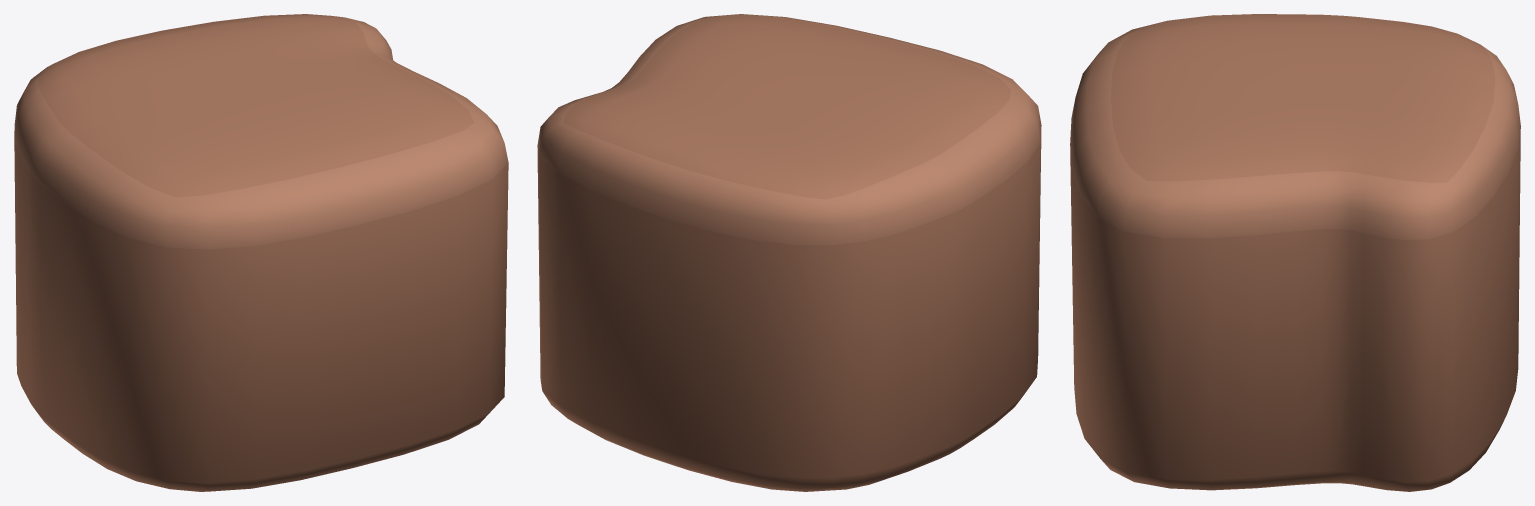
The model's file is big_stone_2_brown.fbx.
3 views of the same model, side by side, from view 1: azimuth 30°, elevation 25°; view 2: azimuth 150°, elevation 25°; view 3: azimuth 270°, elevation 25° (orthographic). The views are drawn at different scales.
Visible parts, largest first — view 1: big_stone_2_brown; view 2: big_stone_2_brown; view 3: big_stone_2_brown.
Boxes of the visible parts, box(x1,y1,x2,y2) form: big_stone_2_brown: box(14, 14, 508, 491); big_stone_2_brown: box(537, 14, 1041, 491); big_stone_2_brown: box(1070, 14, 1520, 491).
Size of the model in its own units: 256 by 200 by 247.
